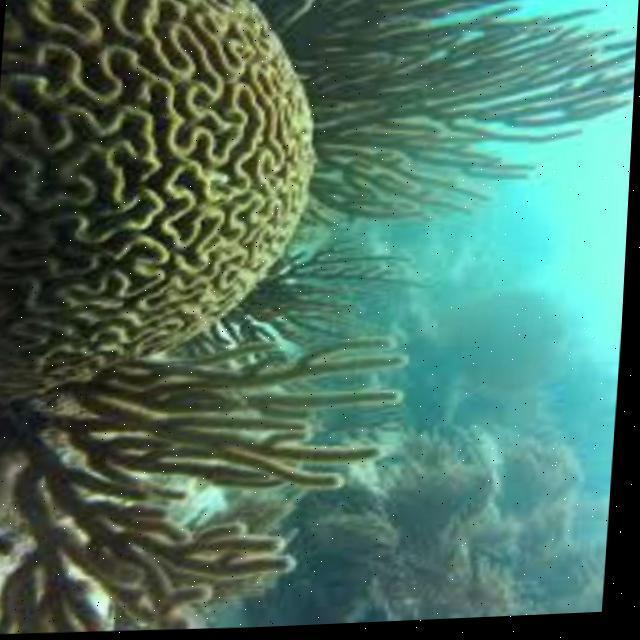Healthy Coral: (0, 0, 325, 396)
